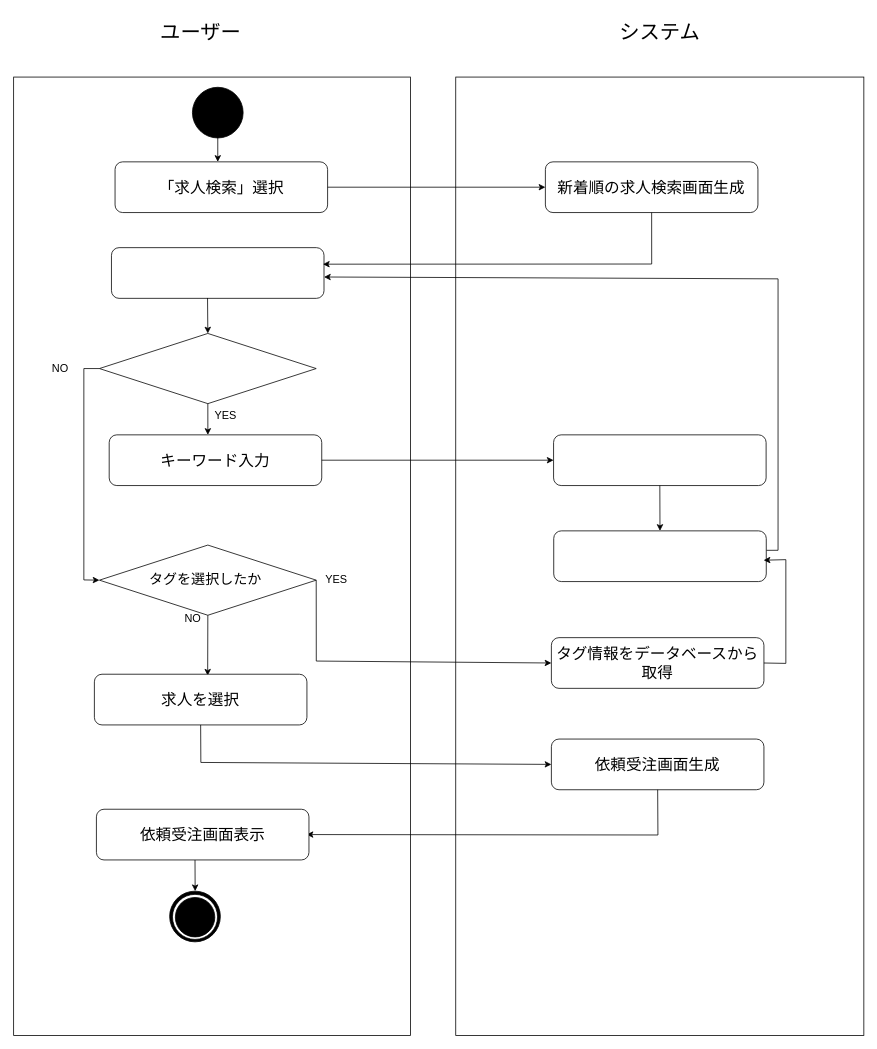
Image size: 877x1049. Some labels were removed from this diagram. The centre of each missing label's shape, as x and y in pixels:
"「キーワード検索」を選択したか" belongs at point (207, 368).
"キーワード情報を データベースから取得" belongs at point (659, 460).
"検索で絞り込まれた 求人検索画面生成" belongs at point (659, 556).
"求人検索画面表示" belongs at point (217, 272).
